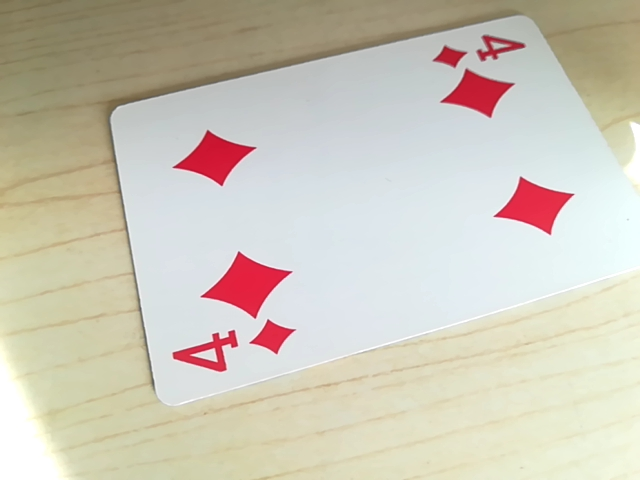fk 4: (171, 317, 294, 384), (430, 28, 529, 73)
